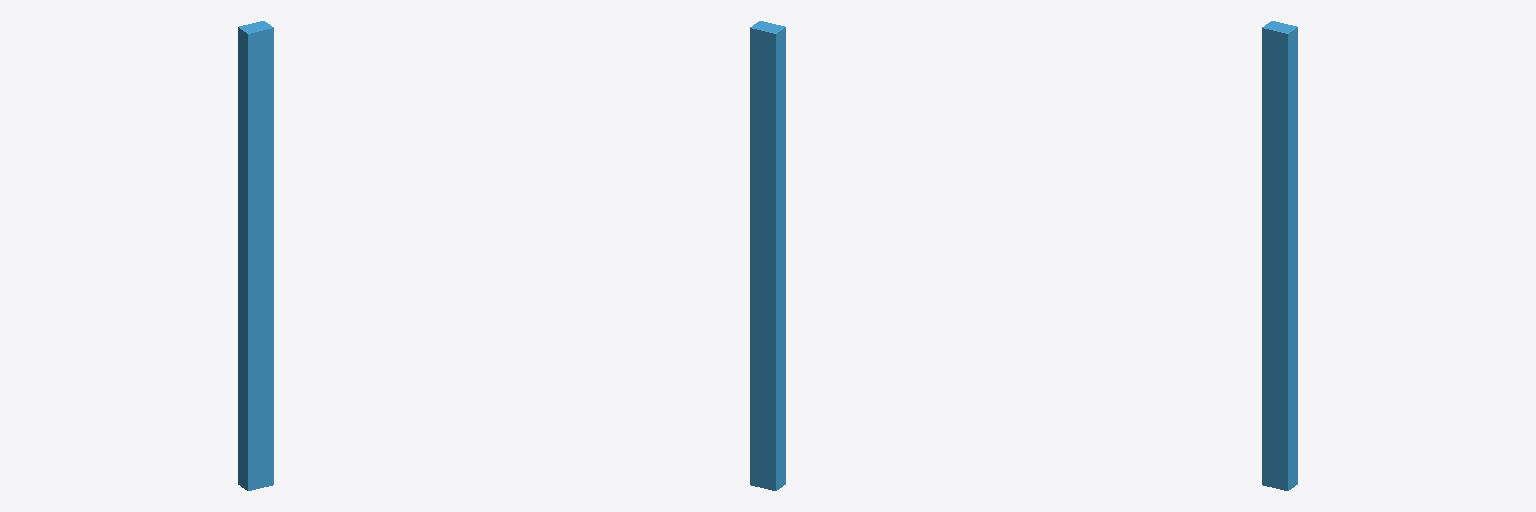
URDF robot description (physics):
<?xml version="1.0"?>

<robot name="physics">

    <link name="ground"/>

    <link name="leg">
        <visual>
            <geometry>
                <box size="0.03 0.02 0.5"/>
            </geometry>
            <origin xyz="0 0 -0.25"/>
        </visual>
        
    </link>

    <joint name="ground_leg_joint" type="continuous">
        <parent link="ground"/>
        <child link="leg"/>
        <origin xyz="0 0 0.8"/>
        <axis xyz="0 1 0"/>
    </joint>

    <link name="spot_foot">
      <visual>
        <origin rpy="-0.2 0 1.57079632679" xyz="-0.275 0.137 -0.11"/> 
        <geometry>
          <mesh filename="Spot_foot.stl" scale="1 1 1"/>
        </geometry>
        <material name="orange"/>
      </visual>
      <collision>
        <origin rpy="-0.2 0 1.57079632679" xyz="-0.275 0.137 -0.11"/> <!--rpy="0 0 1.57079632679"-->
        <geometry>
          <mesh filename="Spot_foot.stl" scale="1 1 1"/>
        </geometry>
        <contact_coefficients mu="10.1"/>
      </collision>
      <inertial>
        <mass value="0.005"/>
        <origin rpy="-0.2 0 1.57079632679" xyz="-0.275 0.137 -0.11"/>
        <!-- Inertial Axes -->
        <inertia ixx="3.52083333333e-06" ixy="0" ixz="0" iyx="0" iyy="2.80208333333e-06" iyz="0" izx="0" izy="0" izz="2.80208333333e-06"/>
      </inertial>
  </link>
  
    <joint name="leg_foot_joint" type="fixed">
        <parent link="leg"/>
        <child link="spot_foot"/>
        <origin xyz="0 0 -0.25"/>
    </joint>



</robot>

--- What the picture shows (computed from the rendered views, not written in the file) ---
The picture shows the robot from 3 angles, left to right: view 1: azimuth 30°, elevation 25°; view 2: azimuth 150°, elevation 25°; view 3: azimuth 330°, elevation 25°; orthographic projection.
Robot: physics — 3 links, 2 joints (1 continuous, 1 fixed); root link ground; default pose: every joint at zero.
Links seen in each view (by area): view 1: leg; view 2: leg; view 3: leg.
Link boxes in pixels (<box>): leg: <box>238,21,273,490</box>; leg: <box>750,21,785,490</box>; leg: <box>1262,21,1297,490</box>.
Bounding box of the posed robot: 0.03 × 0.02 × 0.5 m (x, y, z).
Meshes: 1 distinct files referenced, 0 mesh visuals loaded (none loaded); not drawn: 1 (reference not matched to a file when rendering).